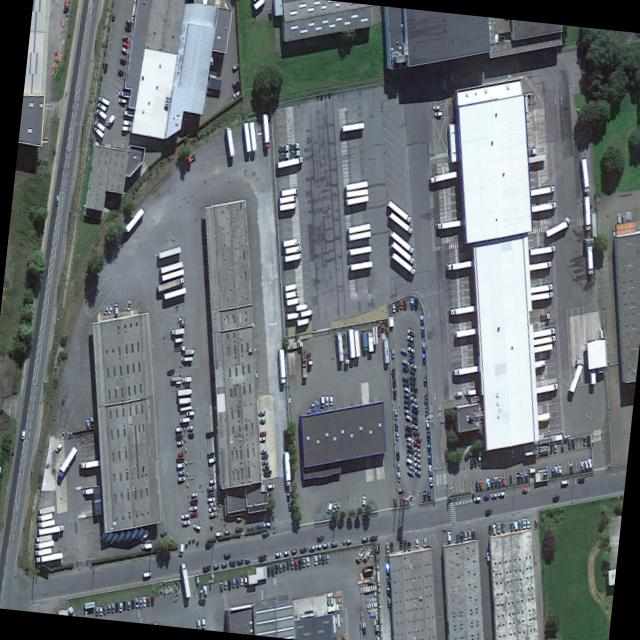large-vehicle: (55, 444, 77, 476), (543, 213, 570, 237), (567, 356, 583, 392), (387, 210, 412, 232), (390, 240, 413, 263), (390, 229, 412, 252), (391, 251, 414, 273), (387, 199, 410, 220), (156, 275, 183, 290), (179, 560, 190, 596), (448, 122, 457, 161), (276, 154, 302, 167), (429, 169, 455, 182), (445, 258, 472, 270), (580, 156, 589, 191), (37, 522, 63, 534), (34, 551, 61, 562), (261, 111, 269, 147), (529, 183, 553, 195), (448, 303, 474, 314), (277, 347, 285, 382), (452, 364, 477, 375), (530, 200, 555, 211), (225, 125, 234, 155), (347, 228, 369, 240), (535, 381, 557, 393), (528, 244, 554, 254), (347, 244, 370, 255), (532, 325, 553, 337), (436, 218, 461, 228), (347, 222, 369, 233), (344, 178, 366, 189), (349, 258, 371, 269), (530, 289, 552, 300), (528, 258, 550, 269), (335, 329, 343, 359), (248, 119, 256, 149), (242, 120, 250, 150), (583, 195, 590, 229), (283, 450, 290, 484), (533, 333, 554, 344), (344, 194, 367, 204), (340, 120, 363, 130), (341, 330, 348, 362), (345, 187, 367, 197), (530, 281, 551, 291), (79, 457, 99, 467), (34, 538, 53, 548), (283, 250, 300, 261), (382, 336, 389, 362), (34, 545, 52, 555), (282, 235, 298, 246), (284, 242, 300, 253), (36, 510, 52, 521), (586, 244, 592, 273), (280, 185, 297, 195), (360, 327, 367, 349), (278, 193, 295, 202), (278, 200, 295, 209), (37, 504, 54, 513), (366, 330, 373, 351), (37, 518, 53, 527), (35, 533, 51, 541), (176, 387, 190, 395), (178, 395, 190, 403)
small-vehicle: (114, 527, 125, 543), (127, 525, 138, 541), (104, 112, 115, 127), (107, 529, 118, 544), (102, 529, 113, 543), (138, 526, 148, 541), (92, 124, 103, 137), (93, 118, 104, 131), (95, 106, 106, 119), (121, 528, 131, 542), (134, 525, 144, 539), (251, 0, 265, 10), (97, 93, 108, 105), (299, 306, 312, 316), (285, 295, 298, 305), (284, 288, 297, 298), (283, 280, 296, 290), (296, 315, 308, 325), (99, 527, 108, 540), (285, 310, 298, 319), (294, 301, 307, 310), (170, 326, 184, 334), (95, 100, 105, 111), (276, 142, 288, 151), (462, 387, 475, 395), (120, 31, 129, 42), (140, 540, 151, 549), (288, 147, 299, 156), (287, 140, 298, 149), (176, 314, 184, 326), (177, 541, 184, 554), (408, 383, 417, 393), (165, 366, 174, 376), (231, 88, 240, 98), (81, 486, 92, 494), (53, 440, 61, 451), (178, 415, 189, 423), (277, 150, 288, 158), (333, 499, 340, 511), (325, 500, 332, 512), (106, 302, 113, 314), (182, 347, 194, 354), (411, 438, 420, 447), (405, 333, 414, 342), (405, 327, 414, 336), (232, 82, 241, 91), (122, 108, 132, 116), (180, 374, 190, 382), (230, 61, 238, 71), (117, 89, 128, 96), (180, 354, 191, 361), (412, 449, 421, 457), (405, 445, 413, 454), (405, 434, 413, 443), (410, 427, 419, 435), (409, 411, 418, 419), (409, 394, 417, 403), (452, 388, 461, 396), (407, 372, 415, 381), (399, 345, 407, 354), (406, 344, 414, 353), (119, 44, 127, 53), (231, 77, 239, 86), (201, 563, 210, 571), (191, 521, 200, 529), (180, 517, 189, 525), (172, 335, 182, 342), (141, 569, 151, 576), (19, 427, 25, 438), (330, 500, 336, 511), (102, 303, 108, 314), (419, 324, 424, 337), (412, 297, 417, 310), (112, 301, 117, 314), (405, 467, 413, 475), (412, 460, 420, 468), (405, 456, 413, 464), (412, 455, 420, 463), (405, 450, 413, 458), (409, 405, 417, 413), (406, 462, 414, 470), (400, 363, 408, 371), (401, 357, 409, 365), (406, 355, 414, 363), (402, 396, 410, 404), (204, 429, 212, 437), (260, 529, 268, 537), (207, 455, 215, 463), (207, 499, 215, 507), (405, 439, 412, 448), (404, 412, 411, 421), (401, 373, 408, 382), (120, 123, 129, 130), (121, 118, 130, 125), (121, 38, 128, 47), (116, 66, 123, 75), (123, 23, 130, 32), (124, 16, 131, 25), (188, 497, 197, 504), (484, 476, 489, 488), (426, 462, 431, 474), (425, 437, 430, 449), (522, 469, 527, 481), (102, 61, 107, 73), (173, 344, 183, 350), (199, 616, 204, 628), (413, 434, 420, 442), (404, 423, 411, 431), (410, 417, 417, 425), (403, 407, 410, 415), (410, 400, 417, 408), (413, 467, 420, 475), (409, 389, 416, 397), (409, 361, 416, 369), (402, 384, 409, 392), (408, 378, 415, 386), (408, 366, 415, 374), (401, 379, 408, 387), (403, 390, 410, 398), (118, 56, 125, 64), (433, 109, 441, 116), (405, 339, 413, 346), (315, 533, 323, 540), (260, 457, 268, 464), (261, 462, 269, 469), (265, 481, 273, 488), (258, 429, 266, 436), (298, 545, 306, 552), (257, 552, 265, 559), (185, 423, 193, 430), (175, 460, 183, 467), (176, 474, 184, 481), (180, 511, 188, 518), (207, 504, 215, 511), (189, 510, 197, 517), (189, 503, 197, 510), (206, 494, 214, 501), (492, 474, 497, 485), (360, 493, 365, 504), (395, 470, 400, 481), (392, 408, 397, 419), (518, 470, 523, 481), (556, 462, 561, 473), (567, 461, 572, 472), (586, 456, 591, 467), (125, 298, 130, 309), (97, 604, 102, 615), (242, 574, 247, 585), (296, 557, 301, 568), (195, 617, 200, 628), (174, 455, 183, 461), (261, 520, 270, 526), (426, 449, 430, 462), (419, 312, 423, 325), (427, 475, 432, 485), (323, 552, 328, 562), (413, 536, 418, 546), (552, 464, 557, 474), (490, 523, 495, 533), (512, 519, 517, 529), (84, 417, 89, 427), (388, 541, 393, 551), (484, 550, 489, 560), (312, 553, 317, 563), (413, 445, 420, 452), (410, 422, 417, 429), (472, 494, 479, 501), (402, 402, 409, 409), (397, 485, 404, 492), (404, 429, 411, 436), (174, 433, 181, 440), (186, 431, 193, 438), (520, 485, 527, 492), (243, 555, 250, 562), (258, 434, 265, 441), (307, 543, 314, 550), (175, 438, 182, 445), (176, 449, 183, 456), (189, 490, 196, 497), (214, 529, 221, 536), (206, 483, 213, 490), (468, 456, 472, 468), (409, 295, 413, 307), (384, 540, 388, 552), (368, 533, 376, 539), (329, 539, 337, 545), (496, 489, 504, 495), (515, 470, 519, 482), (585, 434, 589, 446), (566, 437, 570, 449), (495, 520, 499, 532), (487, 523, 491, 535), (470, 526, 474, 538), (458, 529, 462, 541), (446, 528, 450, 540), (521, 516, 525, 528), (559, 478, 567, 484), (117, 96, 125, 102), (401, 539, 405, 551), (263, 469, 271, 475), (319, 394, 323, 406), (431, 103, 439, 109), (289, 556, 293, 568), (269, 563, 273, 575), (185, 409, 193, 415), (173, 425, 181, 431), (207, 510, 215, 516), (342, 537, 351, 542), (233, 526, 242, 531), (421, 487, 425, 498), (477, 478, 481, 489), (472, 455, 476, 466), (389, 346, 393, 357), (421, 351, 425, 362), (420, 340, 424, 351), (402, 298, 406, 309), (320, 552, 324, 563), (392, 496, 396, 507), (500, 520, 504, 531), (462, 528, 466, 539), (454, 531, 458, 542), (517, 518, 521, 529), (508, 519, 512, 530), (54, 194, 58, 205), (89, 415, 93, 426), (137, 595, 141, 606), (133, 596, 137, 607), (106, 601, 110, 612), (94, 604, 98, 615), (386, 596, 390, 607), (202, 583, 206, 594), (141, 594, 145, 605), (218, 579, 222, 590), (328, 394, 332, 405), (324, 393, 328, 404), (316, 551, 320, 562), (301, 555, 305, 566), (280, 559, 284, 570), (273, 561, 277, 572), (265, 565, 269, 576), (481, 493, 488, 499), (360, 534, 367, 540), (321, 540, 328, 546), (489, 491, 496, 497), (159, 529, 166, 535), (206, 490, 213, 496), (484, 507, 491, 513), (257, 408, 264, 414), (259, 446, 266, 452), (227, 558, 234, 564), (212, 561, 218, 568), (254, 522, 261, 528), (246, 524, 253, 530), (222, 528, 229, 534), (314, 542, 321, 548), (273, 550, 280, 556), (207, 477, 214, 483), (507, 472, 511, 482), (496, 474, 500, 484), (488, 476, 492, 486), (473, 480, 477, 490), (476, 454, 480, 464), (425, 489, 429, 499), (394, 300, 398, 310), (390, 367, 394, 377), (391, 388, 395, 398), (394, 450, 398, 460), (421, 536, 425, 546), (549, 465, 553, 475), (570, 437, 574, 447), (559, 441, 563, 451), (552, 441, 556, 451), (466, 528, 470, 538), (579, 459, 583, 469), (583, 458, 587, 468), (533, 517, 537, 527), (390, 301, 394, 311), (121, 599, 125, 609), (117, 600, 121, 610), (113, 601, 117, 611), (385, 584, 389, 594), (145, 595, 149, 605), (287, 501, 291, 511), (285, 489, 289, 499), (576, 476, 584, 481), (422, 374, 426, 384), (226, 578, 230, 588), (222, 578, 226, 588), (230, 576, 234, 586), (238, 574, 242, 584), (304, 554, 308, 564), (292, 558, 296, 568), (277, 561, 281, 571), (500, 475, 504, 484), (424, 418, 428, 427), (390, 378, 394, 387), (395, 461, 399, 470), (394, 430, 398, 439), (393, 420, 397, 429), (581, 435, 585, 444), (398, 299, 402, 308), (125, 599, 129, 608), (110, 11, 114, 20), (385, 574, 389, 583), (425, 429, 429, 438), (398, 537, 401, 549), (552, 493, 558, 499), (517, 446, 521, 455), (267, 9, 271, 18), (234, 576, 238, 585), (236, 557, 242, 563), (220, 560, 226, 566), (290, 547, 296, 553), (282, 548, 288, 554), (223, 550, 230, 555), (204, 541, 211, 546), (197, 596, 204, 601), (176, 469, 183, 474), (525, 516, 528, 527), (110, 600, 113, 611), (149, 594, 152, 605), (285, 558, 288, 569), (130, 598, 133, 608), (102, 603, 105, 613), (406, 540, 409, 550), (510, 447, 513, 457), (258, 417, 264, 422), (260, 452, 266, 457), (83, 607, 86, 616), (548, 442, 551, 451)
